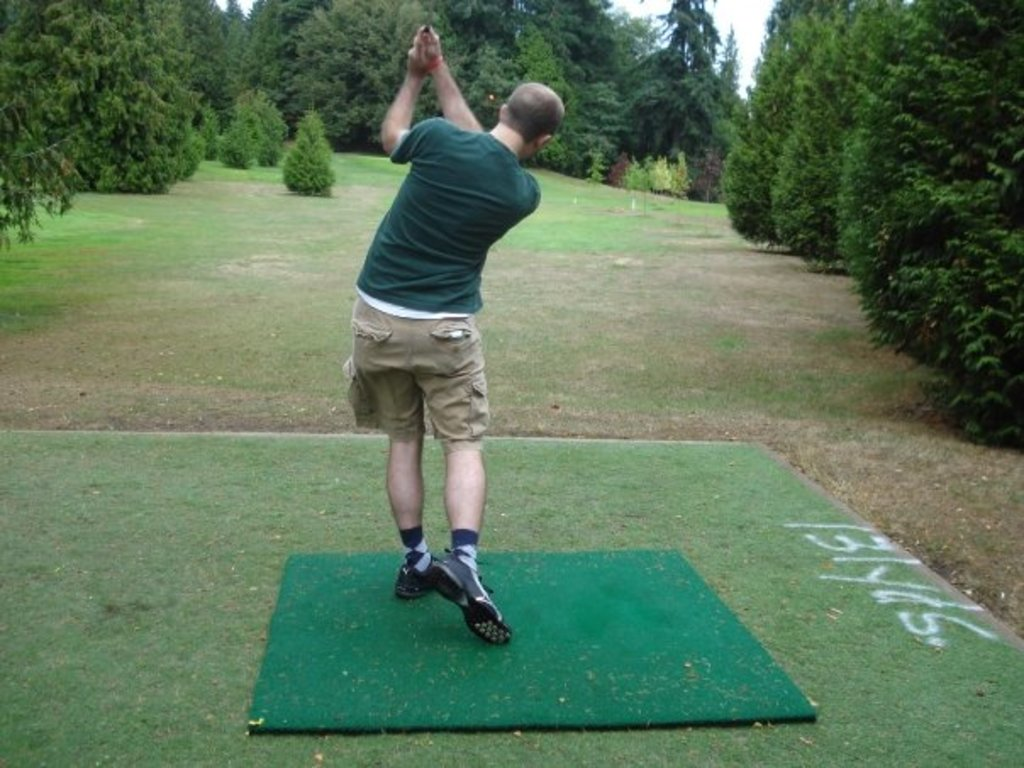Person: (341, 25, 565, 646)
